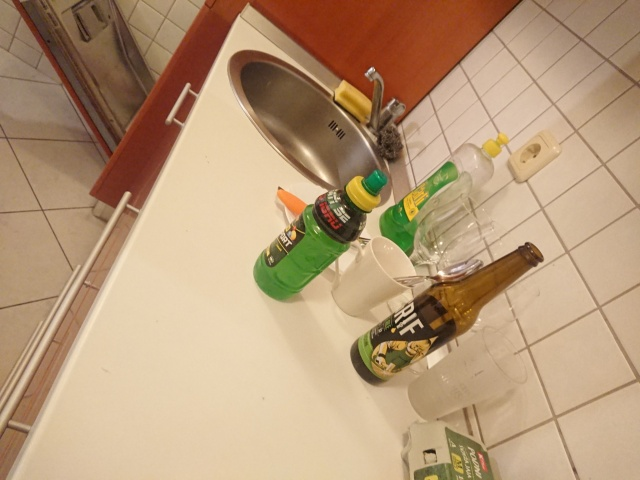Vindi Iso Sport Lemon-Grapefruit 500mL: (250, 167, 389, 303)
